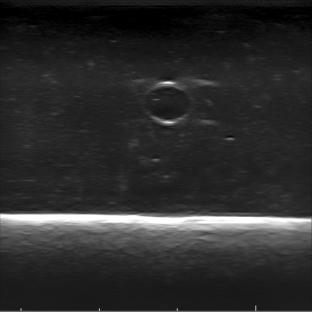vessel: (143, 80, 193, 125)
